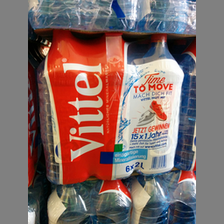water: (35, 30, 93, 186), (87, 33, 141, 182), (137, 33, 183, 174)
